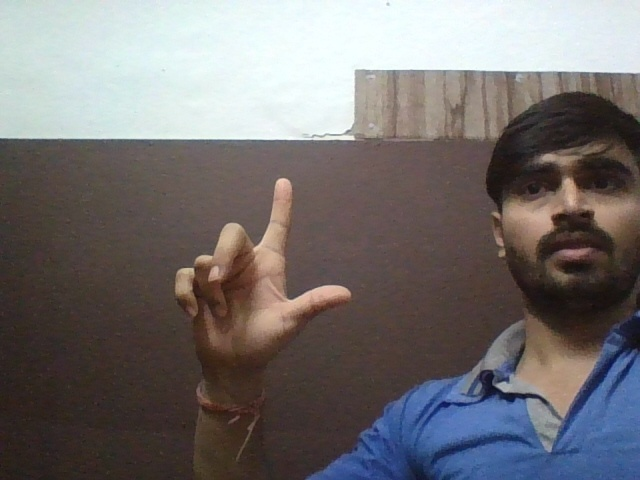L: (162, 172, 366, 375)
